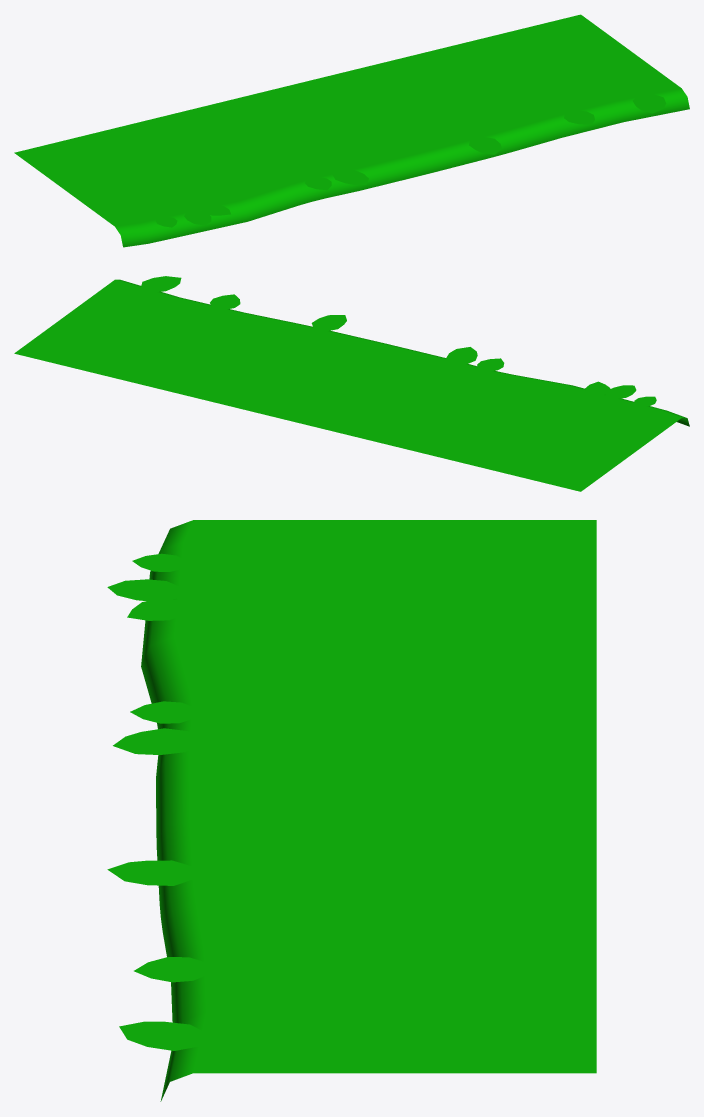
3 renders of one model, top to bottom at view 1: azimuth 30°, elevation 25°; view 2: azimuth 150°, elevation 25°; view 3: azimuth 270°, elevation 25°, orthographic. The views are drawn at different scales.
Visible parts, largest first — view 1: Plane.009; view 2: Plane.009; view 3: Plane.009.
Part boxes in pixels (x1,y1,x2,y2): Plane.009: [14, 14, 689, 247]; Plane.009: [14, 276, 689, 491]; Plane.009: [107, 520, 596, 1101].
Size of the model in its own units: 6 by 0.15 by 2.24.
